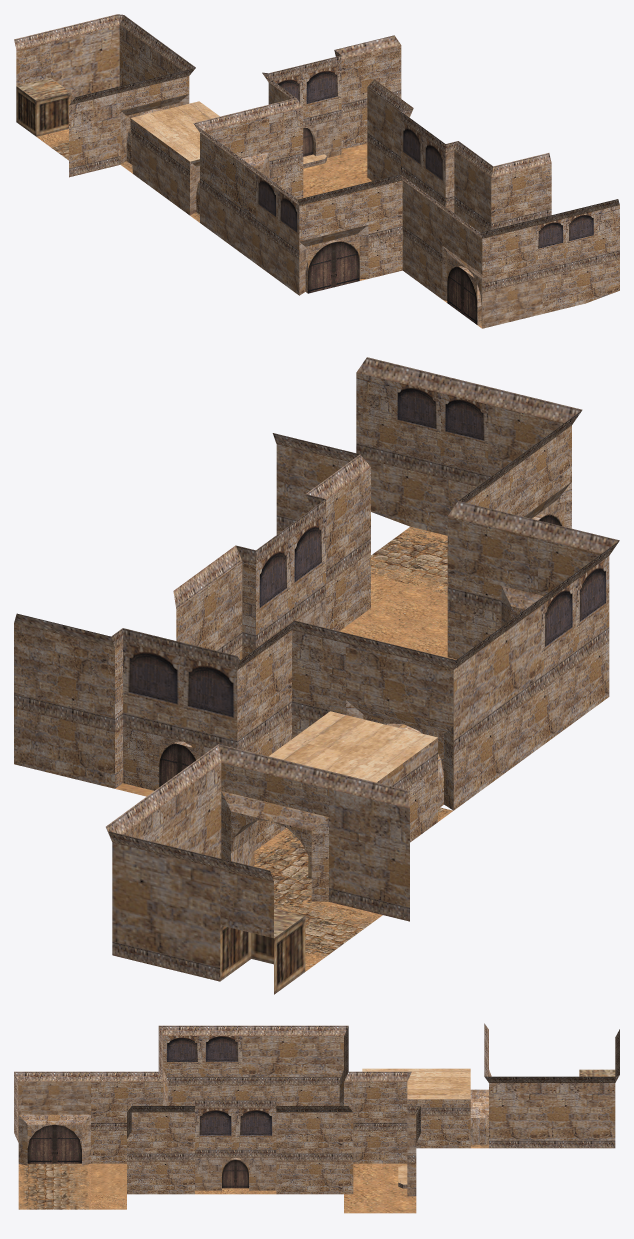
The model's file is 256DustParts6.fbx.
3 views of the same model, one above another, from view 1: azimuth 30°, elevation 25°; view 2: azimuth 150°, elevation 25°; view 3: azimuth 270°, elevation 25° (orthographic). The views are drawn at different scales.
Visible parts, largest first — view 1: Trigger6; view 2: Trigger6; view 3: Trigger6.
Boxes of the visible parts, x1,y1,x2,y2 form: Trigger6: (14, 14, 619, 328); Trigger6: (14, 357, 619, 994); Trigger6: (14, 1023, 619, 1213).
Size of the model in its own units: 27.44 by 8.88 by 54.07.
Materials: 1 (1 with a texture image).
